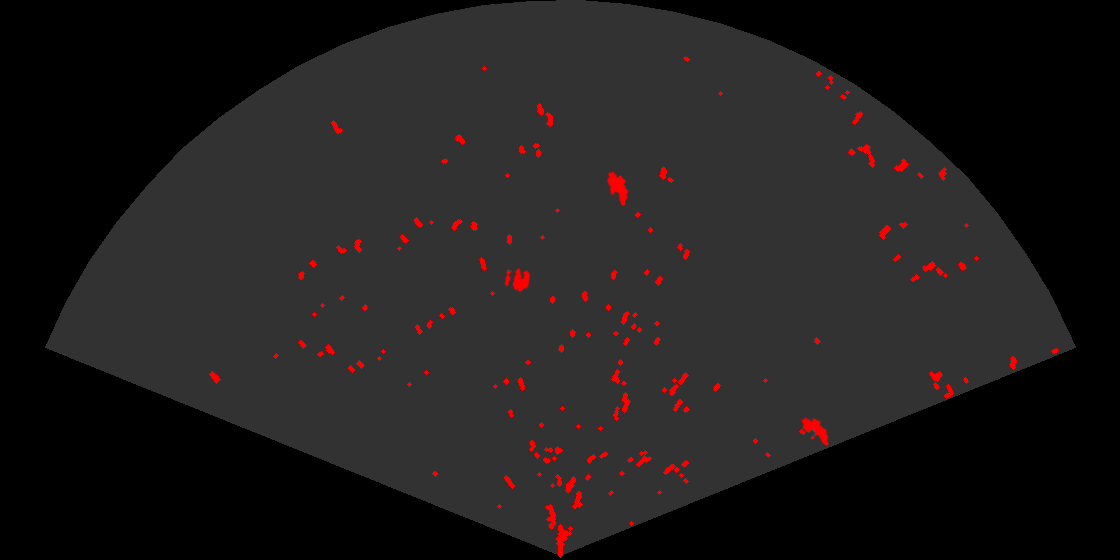AUV: (800, 416, 830, 448), (605, 170, 630, 208)
ball: (503, 266, 532, 293)
